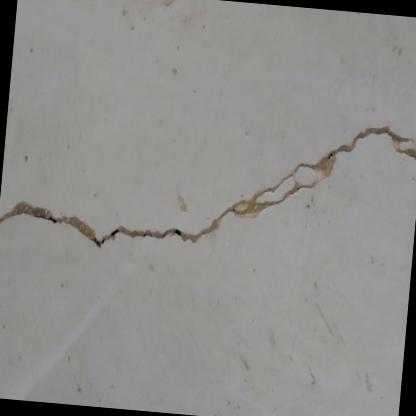crack: (0, 123, 416, 251)
